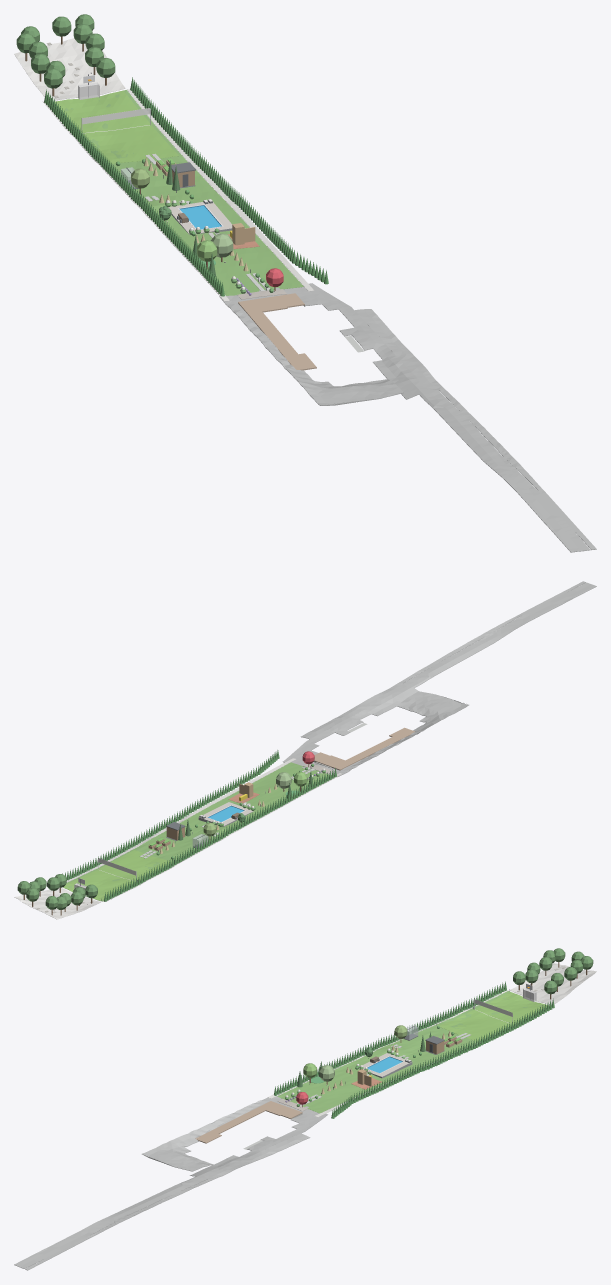
3 renders of one model, top to bottom at view 1: azimuth 30°, elevation 25°; view 2: azimuth 150°, elevation 25°; view 3: azimuth 330°, elevation 25°, orthographic. The views are drawn at different scales.
Parts seen in each view (by area): view 1: material_001, material_005, material_047, material_008, material_007, material_046, material_003, material_034; view 2: material_001, material_047, material_005, material_007, material_008, material_046, material_003; view 3: material_001, material_005, material_047, material_008, material_007, material_046, material_003.
Part boxes in pixels (box(x1,y1,x2,y2)): material_001: box(219, 283, 596, 552); material_005: box(61, 90, 303, 295); material_047: box(44, 77, 328, 296); material_008: box(55, 90, 178, 163); material_007: box(14, 38, 313, 301); material_046: box(16, 14, 115, 88); material_003: box(238, 293, 316, 370); material_034: box(78, 82, 150, 124); material_001: box(283, 581, 596, 776); material_047: box(62, 750, 336, 901); material_005: box(63, 762, 331, 901); material_007: box(14, 758, 342, 919); material_008: box(63, 850, 171, 900); material_046: box(17, 874, 97, 909); material_003: box(314, 727, 415, 770); material_001: box(14, 1096, 327, 1270); material_005: box(277, 990, 549, 1113); material_047: box(274, 981, 554, 1118); material_008: box(438, 992, 547, 1041); material_007: box(268, 963, 596, 1117); material_046: box(513, 948, 593, 994); material_003: box(195, 1101, 302, 1143).
Size of the model in its own units: 36.77 by 6.99 by 197.
